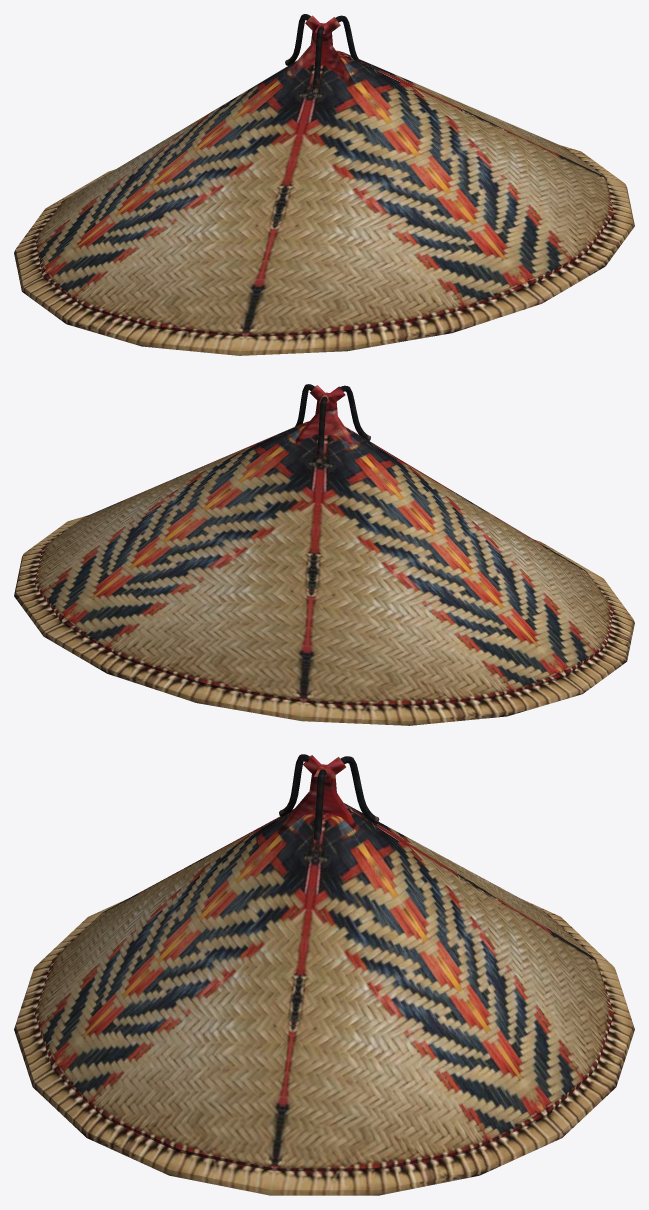
File: sirung_conical_hat.glb
3 renders of one model, top to bottom at view 1: azimuth 30°, elevation 25°; view 2: azimuth 150°, elevation 25°; view 3: azimuth 270°, elevation 25°, orthographic. The views are drawn at different scales.
Parts seen in each view (by area): view 1: Cone, Mesh_Default_0; view 2: Cone, Mesh_Default_0; view 3: Cone, Mesh_Default_0.
Part boxes in pixels (box(x1,y1,x2,y2)): Cone: box(14, 50, 634, 355); Mesh_Default_0: box(285, 14, 360, 95); Cone: box(14, 421, 634, 725); Mesh_Default_0: box(295, 384, 370, 466); Cone: box(14, 803, 634, 1195); Mesh_Default_0: box(277, 754, 379, 840).
Bounding box in the file's own units: 355 × 133 × 280.
Materials: 1 (1 with a texture image).
